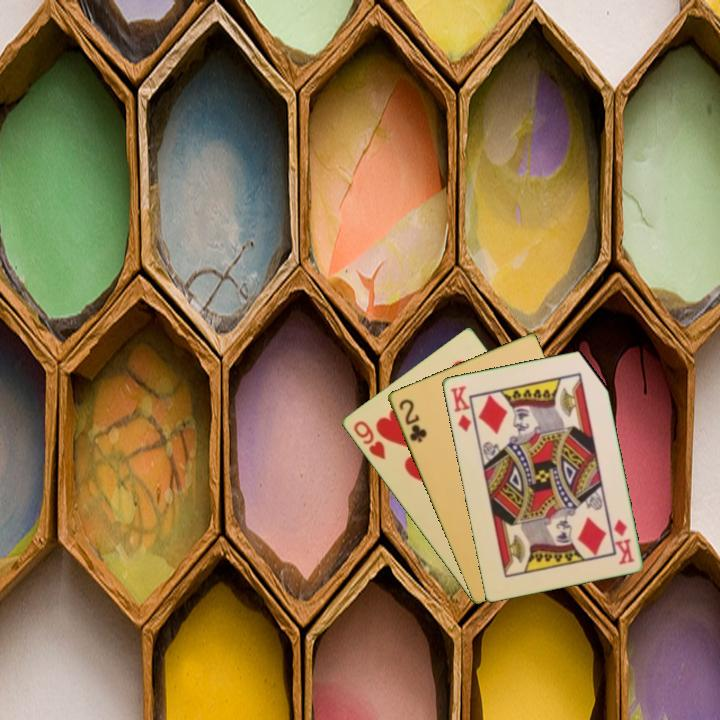2c: (395, 395, 429, 445)
9h: (349, 417, 388, 463)
Kd: (446, 382, 474, 435), (610, 516, 637, 567)
